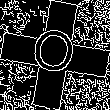O_S: (29, 26, 81, 84)
